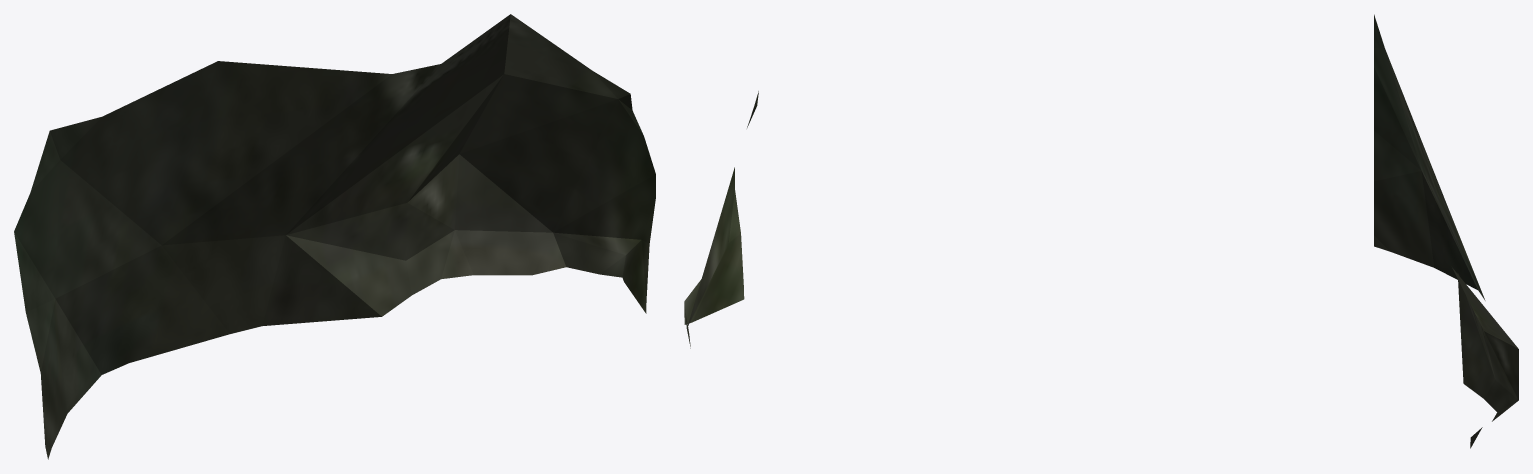
3 renders of one model, left to right at view 1: azimuth 30°, elevation 25°; view 2: azimuth 150°, elevation 25°; view 3: azimuth 270°, elevation 25°, orthographic. The views are drawn at different scales.
Size of the model in its own units: 2.83 by 1.48 by 0.7668.
1 material, 1 textured.
